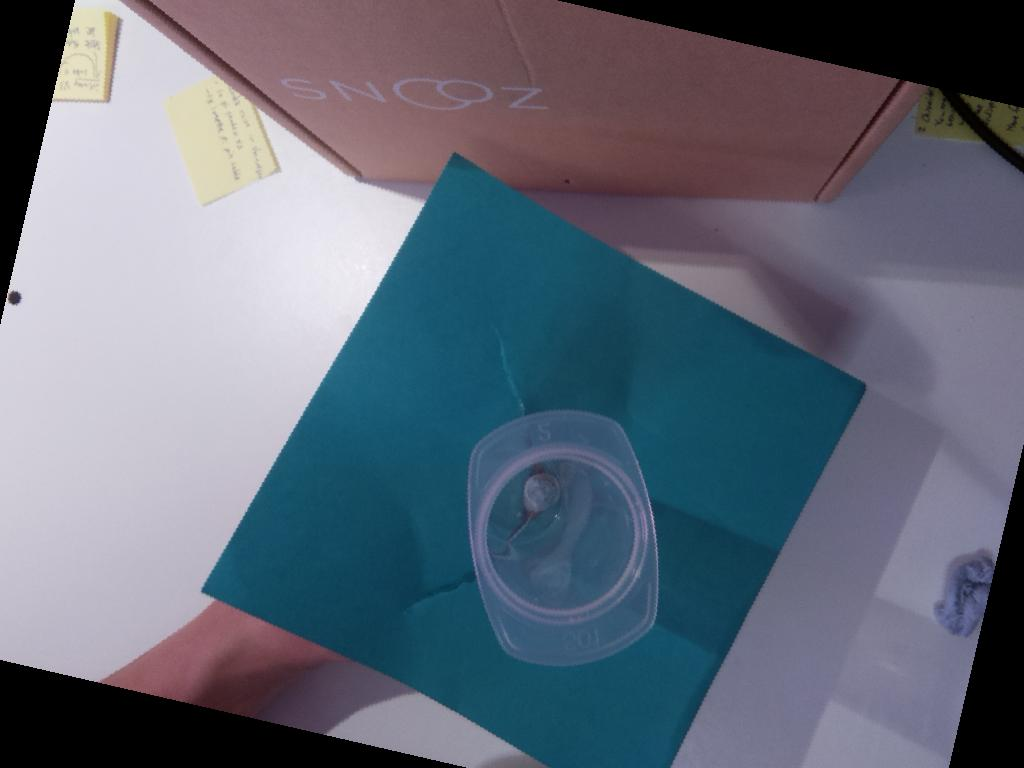clean: (468, 408, 659, 667)
